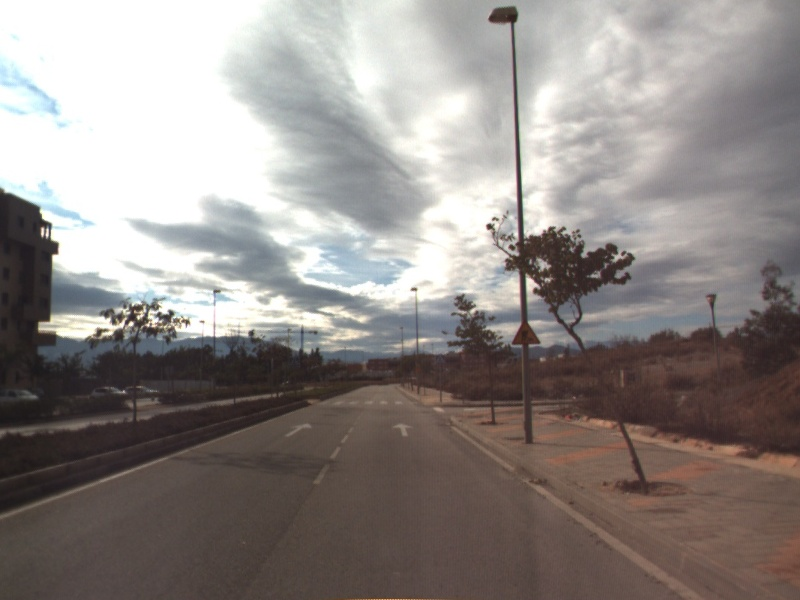STRAIGHT: (282, 421, 314, 439), (391, 421, 416, 439)
